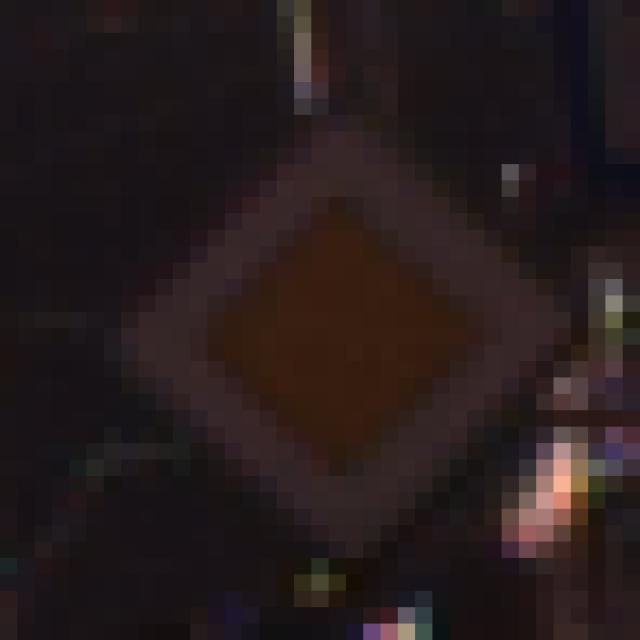Main Road: (105, 99, 554, 559)
